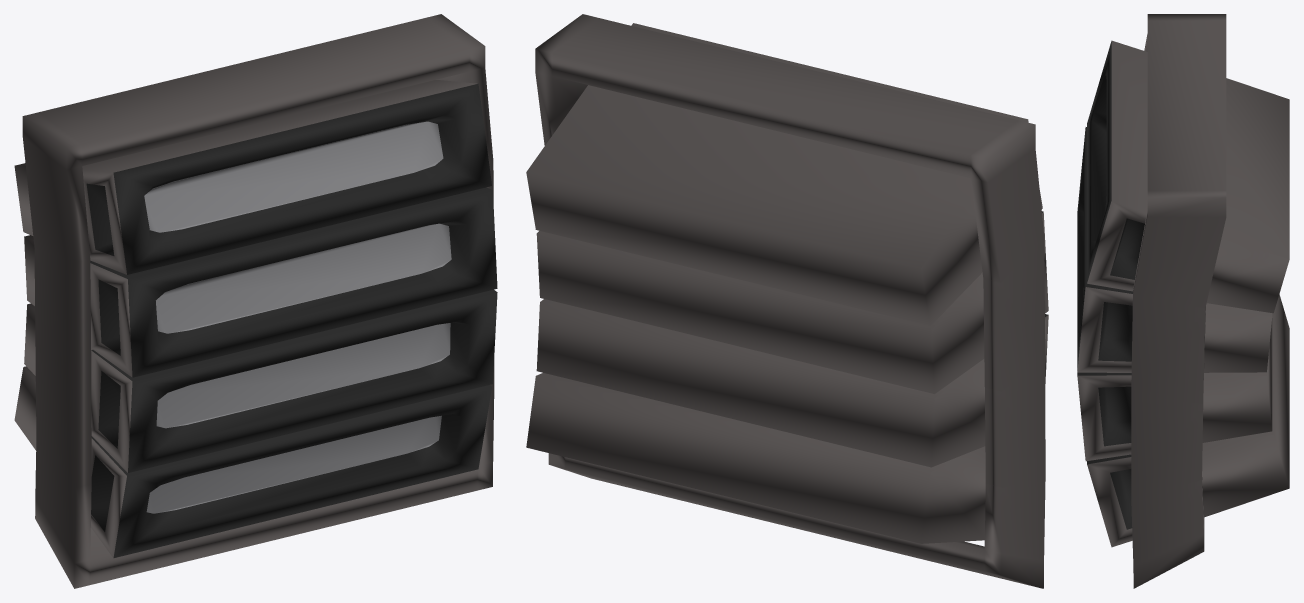
The model's file is SpeakersMounted.glb.
3 renders of one model, left to right at view 1: azimuth 30°, elevation 25°; view 2: azimuth 150°, elevation 25°; view 3: azimuth 270°, elevation 25°, orthographic. The views are drawn at different scales.
Visible parts, largest first — view 1: SpeakersMounted; view 2: SpeakersMounted; view 3: SpeakersMounted.
Part boxes in pixels (bbox=[...]): SpeakersMounted: bbox=[14, 14, 497, 588]; SpeakersMounted: bbox=[526, 14, 1048, 588]; SpeakersMounted: bbox=[1077, 14, 1289, 588].
Bounding box in the file's own units: 2.29 × 2.28 × 1.12.
Materials: 1 (1 with a texture image).
